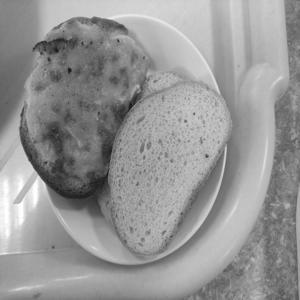bread: (97, 73, 247, 265)
cheese_sandwich: (9, 5, 145, 219)
